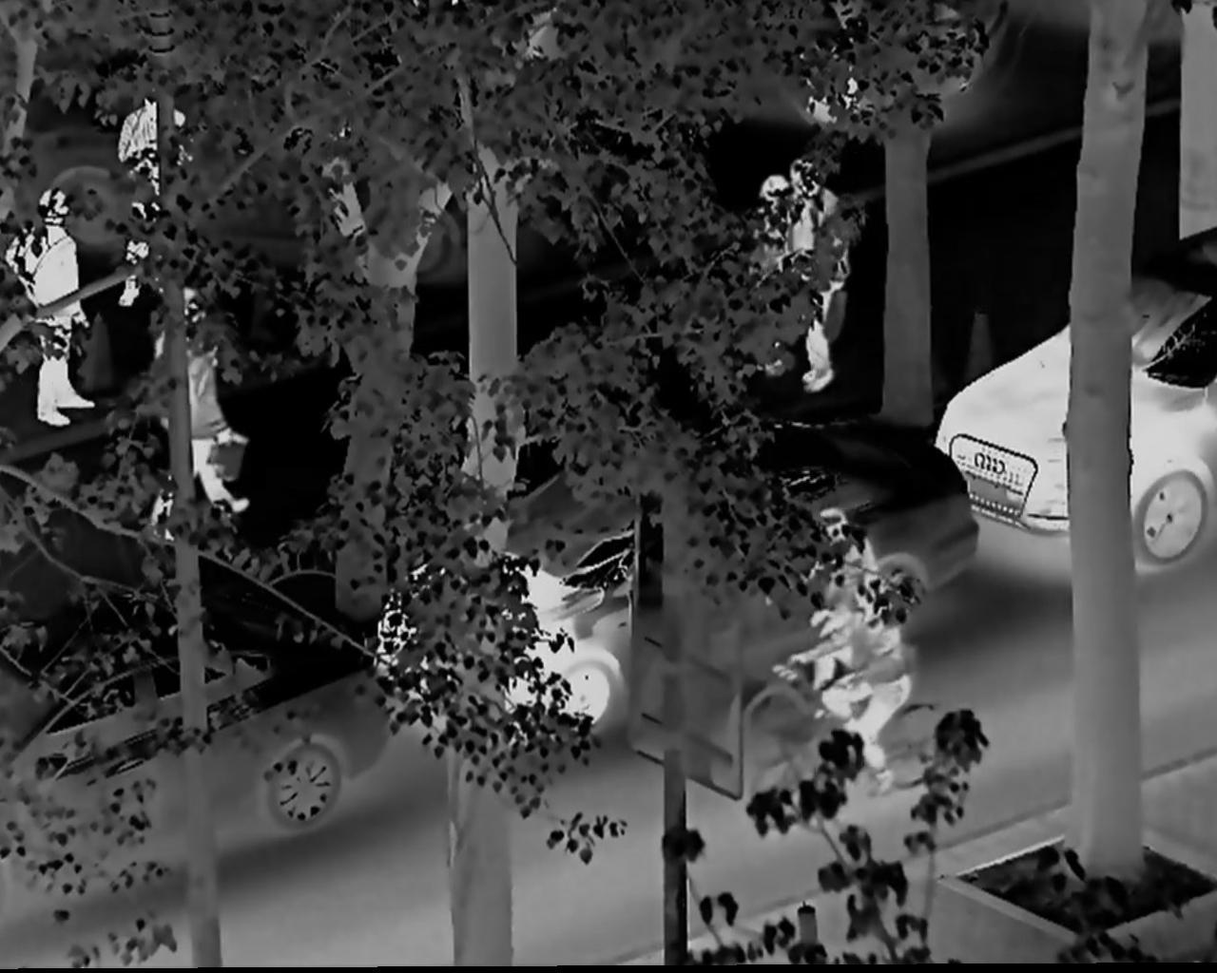person: (10, 189, 99, 440), (157, 301, 250, 521), (801, 597, 904, 784), (786, 160, 860, 394), (105, 90, 183, 309), (804, 505, 873, 719), (733, 177, 792, 367)
